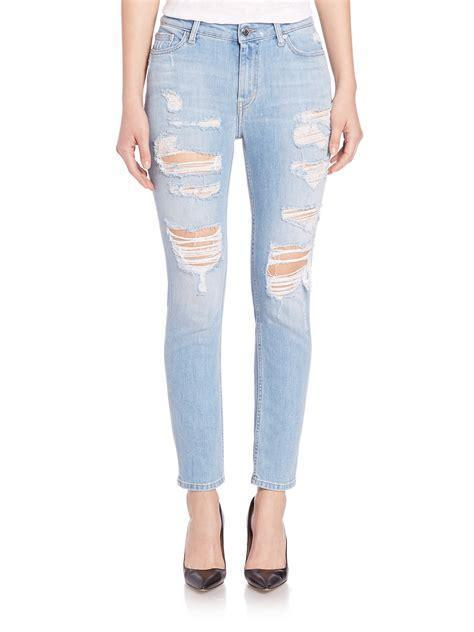pants: (145, 16, 333, 490)
